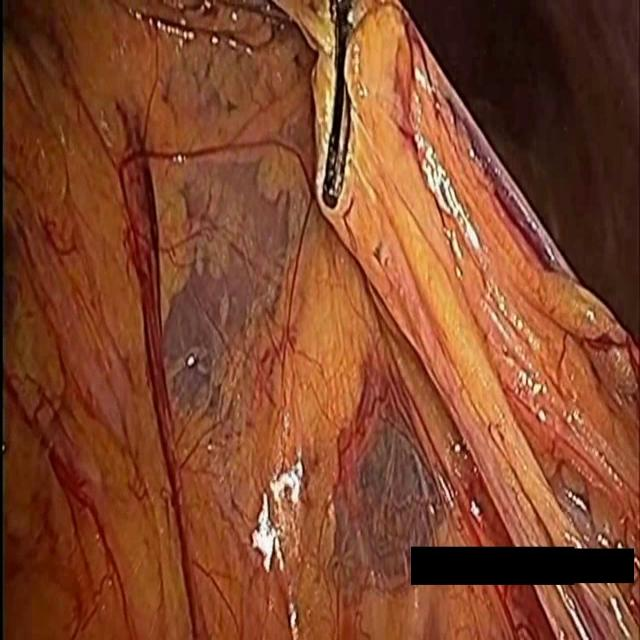surgical-area: (405, 585, 640, 639)
